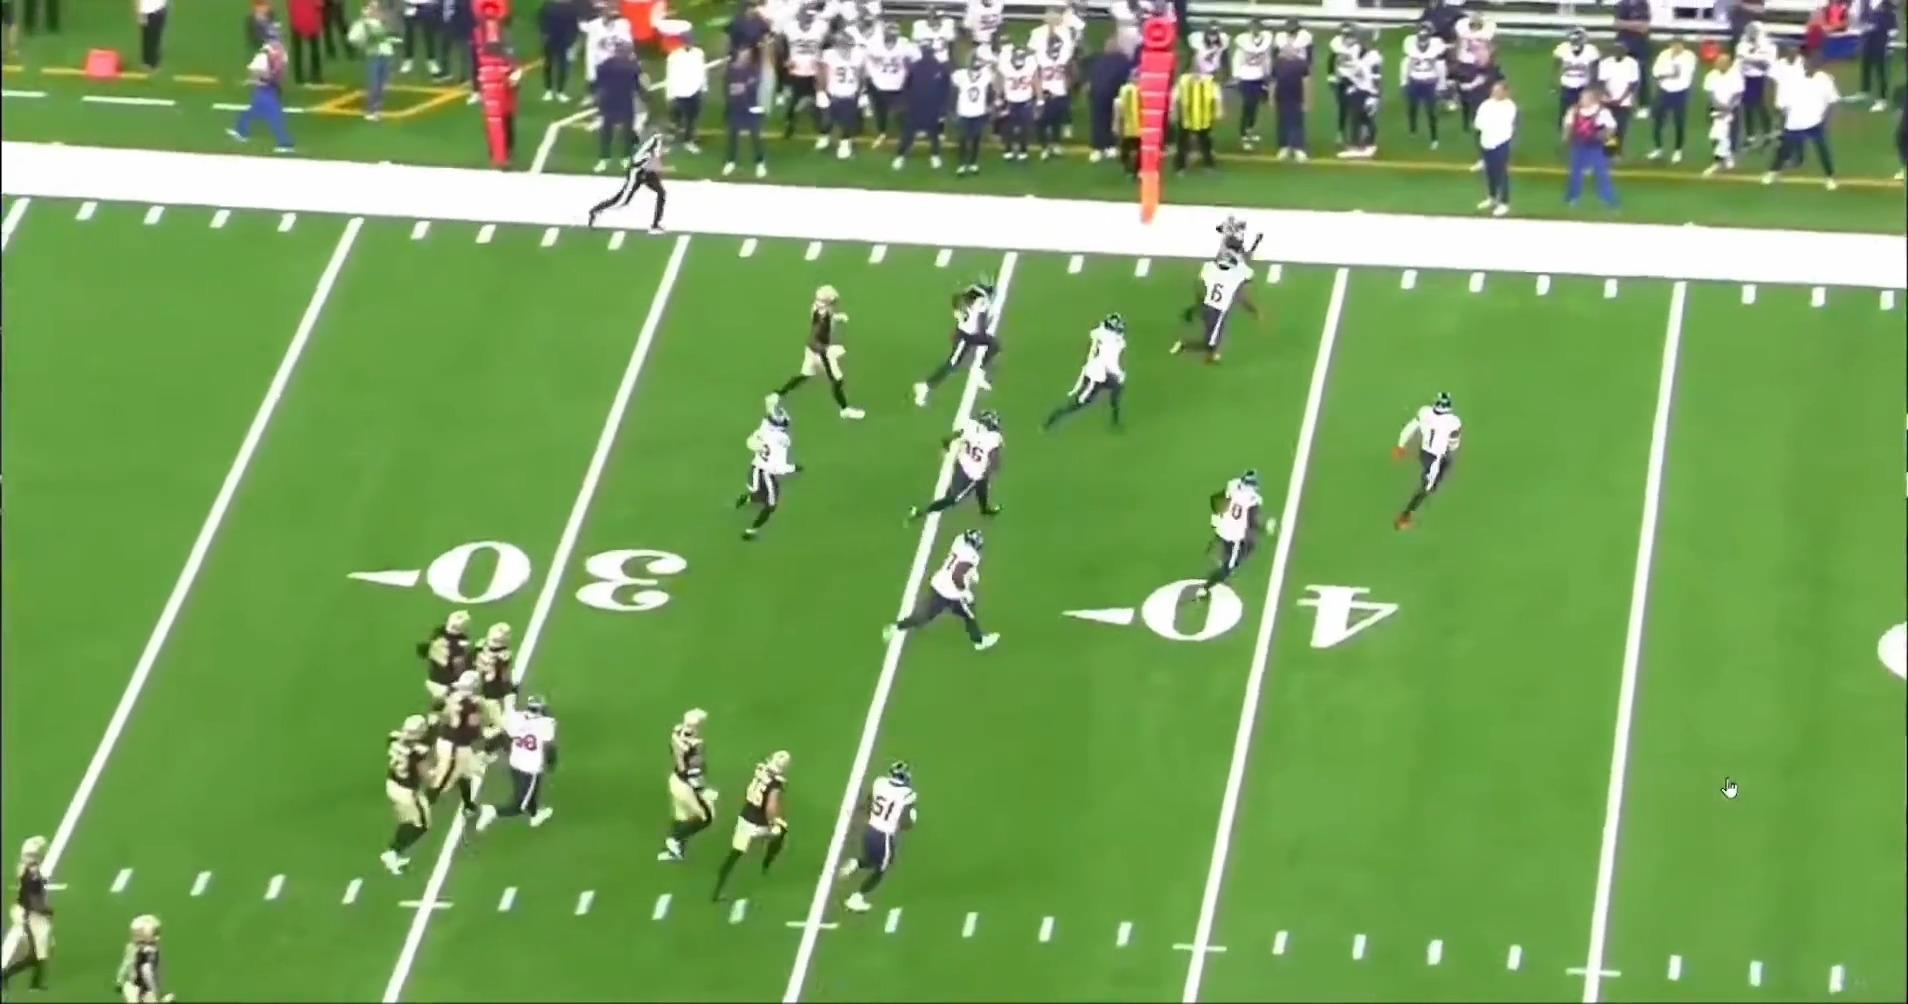player: (886, 524, 1010, 658), (764, 278, 867, 428), (714, 741, 801, 905), (845, 759, 930, 921), (909, 274, 1006, 409), (900, 410, 1007, 531), (377, 709, 452, 880), (1038, 316, 1135, 446), (660, 702, 734, 870), (1385, 388, 1468, 536), (0, 823, 73, 988), (1167, 246, 1264, 369), (492, 689, 567, 839), (736, 406, 808, 549), (421, 670, 490, 818), (1202, 468, 1274, 599), (119, 908, 185, 1004), (418, 606, 476, 702), (469, 619, 523, 712), (1204, 210, 1268, 270)
ref: (574, 117, 678, 233)
